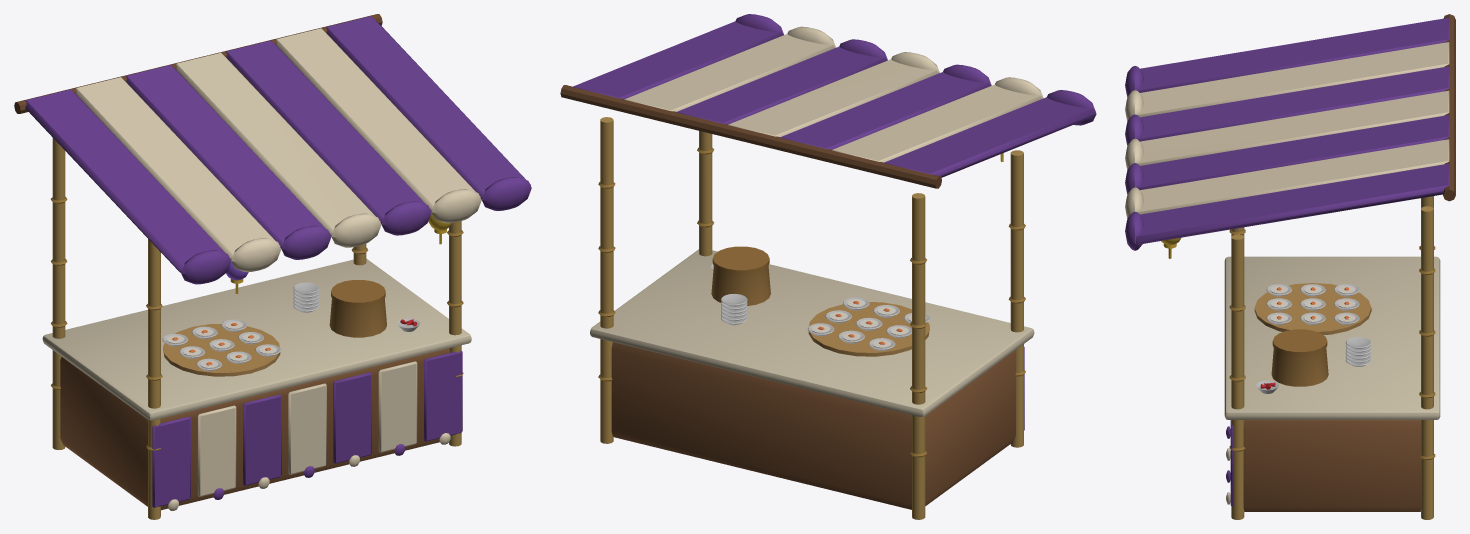
Rendered from pp-stall-olai.glb.
3 renders of one model, left to right at view 1: azimuth 30°, elevation 25°; view 2: azimuth 150°, elevation 25°; view 3: azimuth 270°, elevation 25°, orthographic. The views are drawn at different scales.
Bounding box in the file's own units: 3.2 × 2.91 × 2.55.
